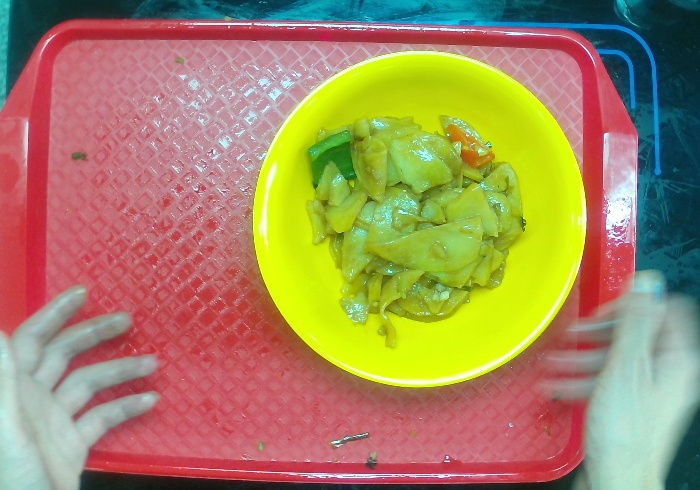YKMZ-Huang_Se_Tang_Wan: (251, 49, 588, 389)
